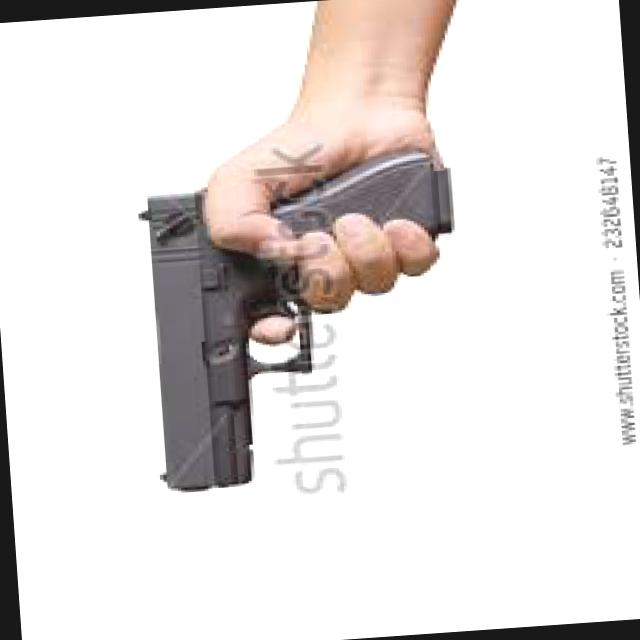handgun: (134, 145, 469, 500)
